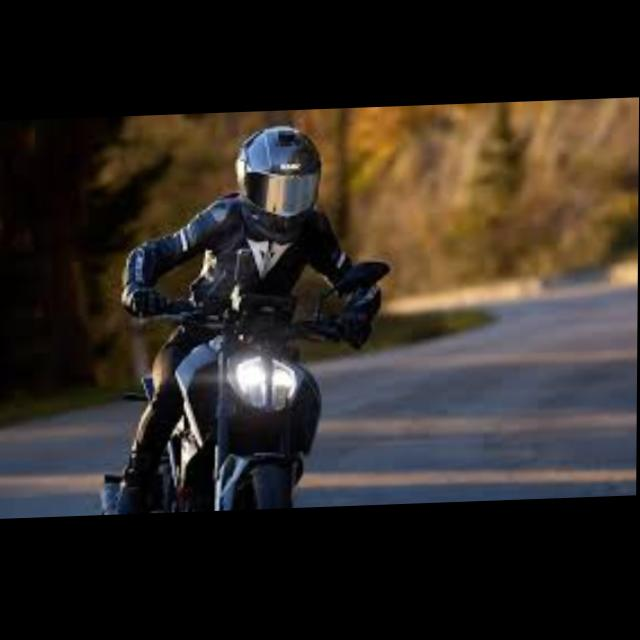motorcycle-helmets: (235, 126, 319, 241)
